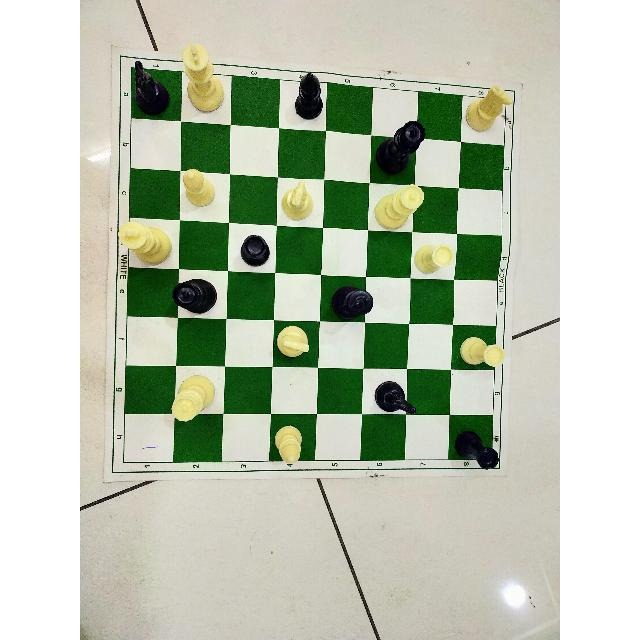black-bishop: (295, 72, 325, 120)
black-king: (330, 284, 375, 320)
black-knight: (132, 59, 171, 116), (374, 380, 418, 419)
black-queen: (375, 119, 427, 177), (169, 278, 218, 315)
black-rook: (453, 429, 499, 470), (239, 235, 270, 267)
white-bishop: (182, 167, 216, 206), (273, 424, 303, 464)
white-king: (182, 43, 224, 115), (117, 221, 172, 265)
white-knight: (465, 84, 514, 133), (280, 178, 316, 221), (276, 325, 310, 361)
white-queen: (372, 183, 427, 230), (169, 375, 216, 423)
white-rook: (457, 334, 507, 373), (412, 242, 455, 275)
